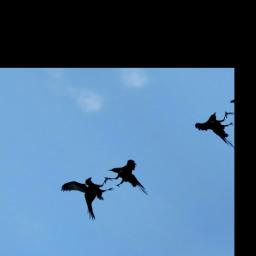Crow: (57, 165, 132, 223)
